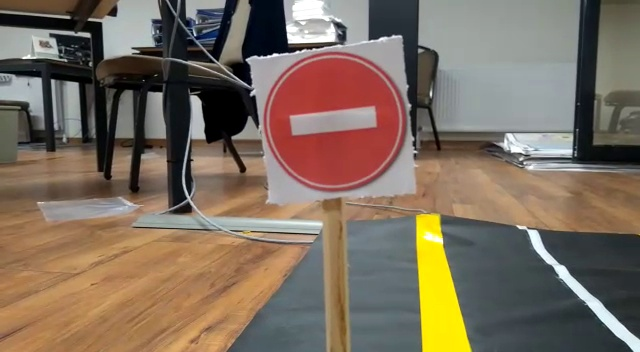girisi_olmayan_yol: (250, 55, 409, 196)
